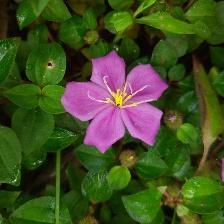malabar melastome: (62, 51, 172, 152)
